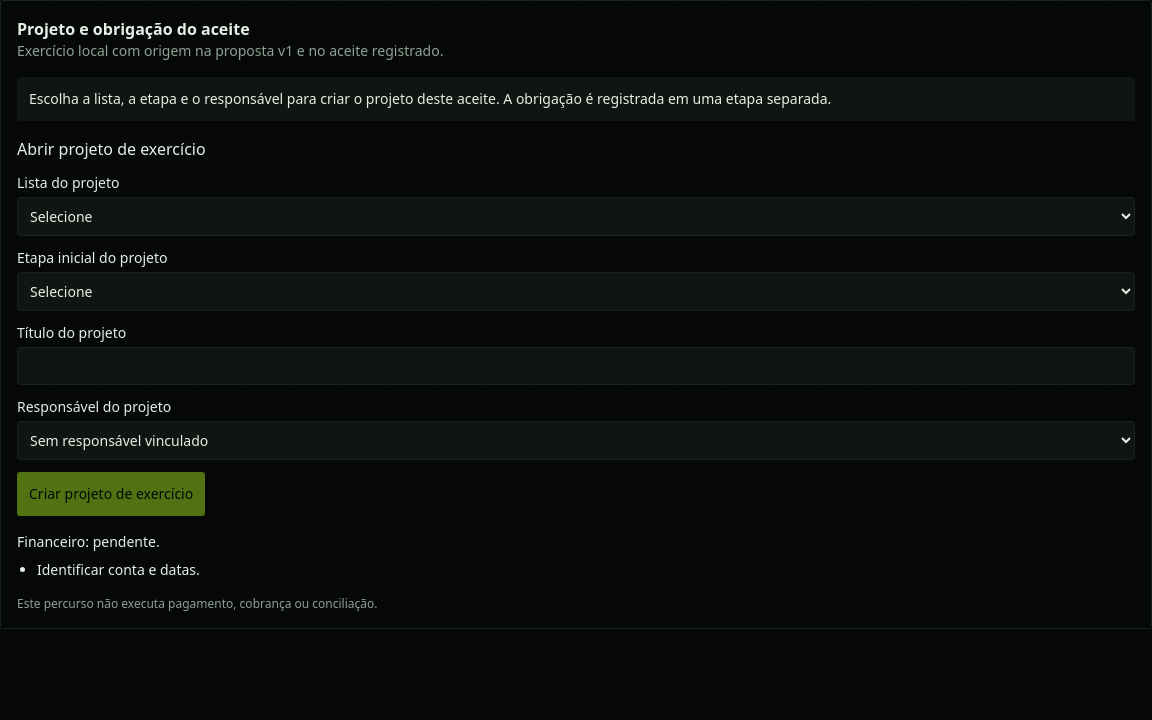
Test case: ponte comercial com API simulada › quota de storage impede POST antes de qualquer efeito
Select "Lista QA" in the dropdown labelled "Lista do projeto". click: (576,216)
box: [17,197,1135,236]
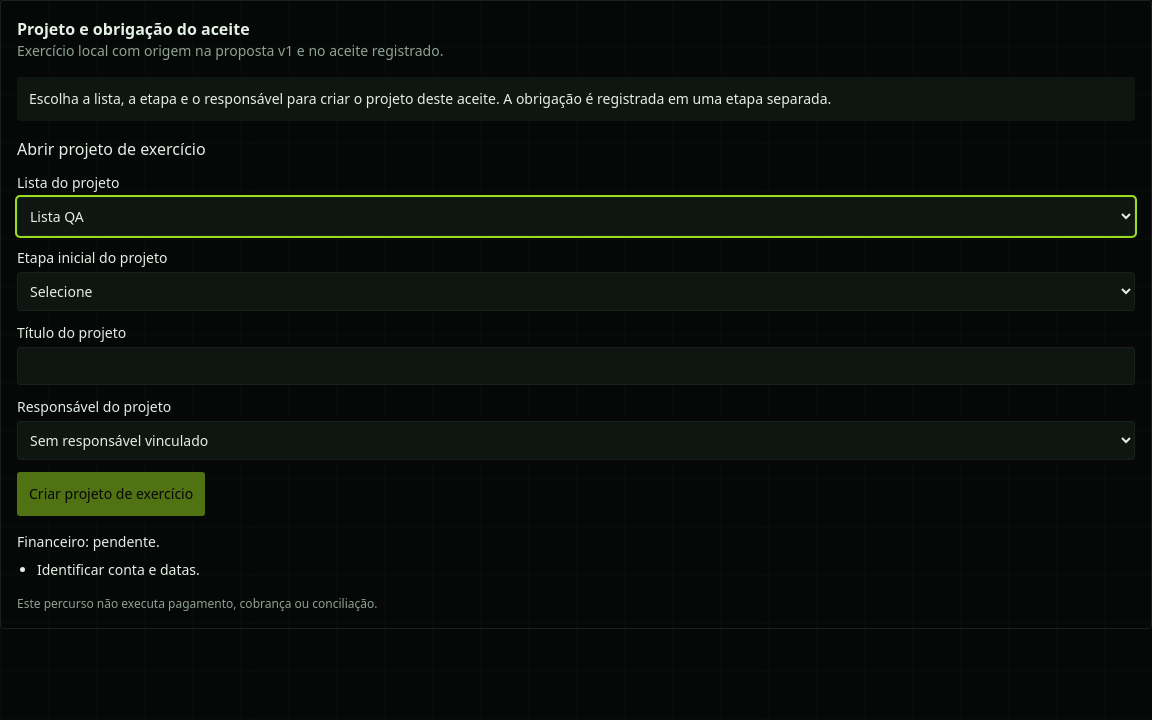
Select "Etapa QA" in the dropdown labelled "Etapa inicial do projeto". click: (576,292)
box: [17,272,1135,311]
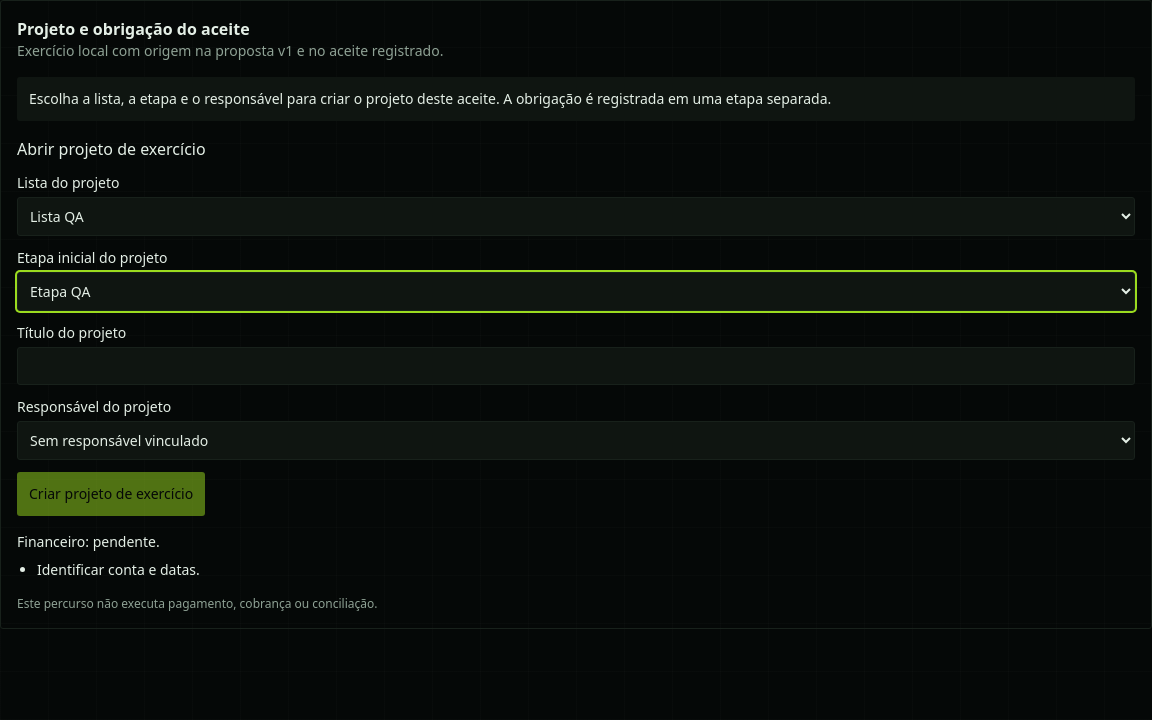
Type "Projeto QA privado" into the field labelled "Título do projeto". click: (576,366)
box: [17,347,1135,385]
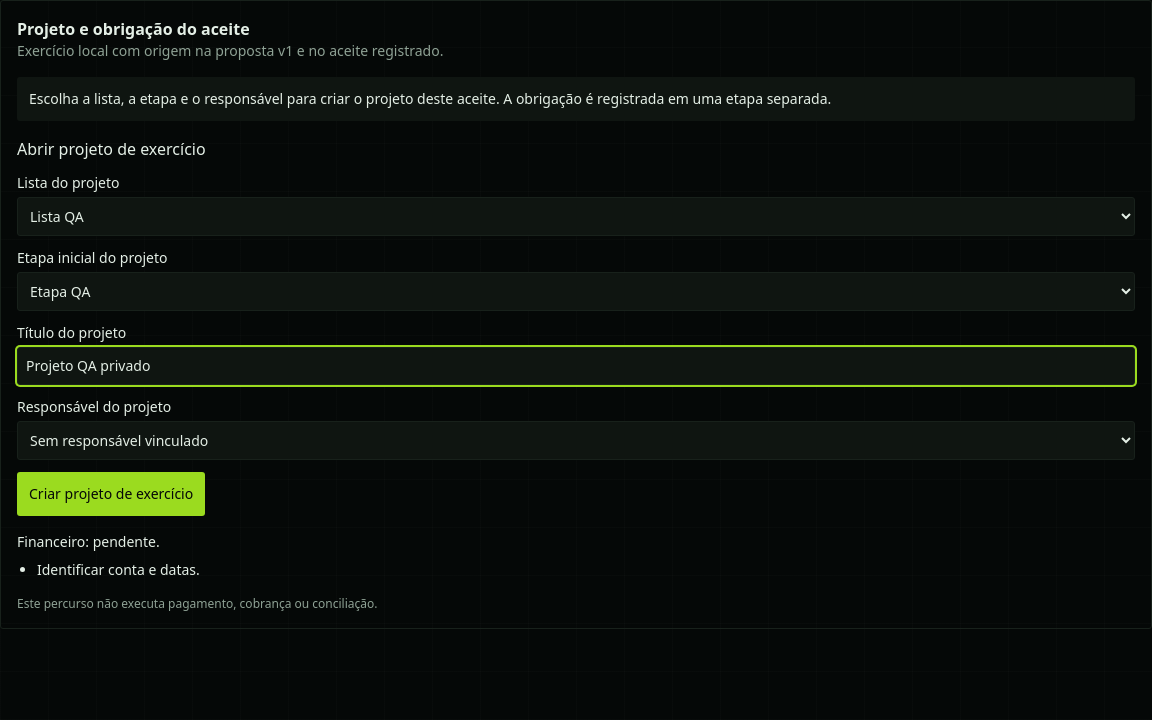
Click the button "Criar projeto de exercício". click: (111,494)
box: [17,472,205,516]
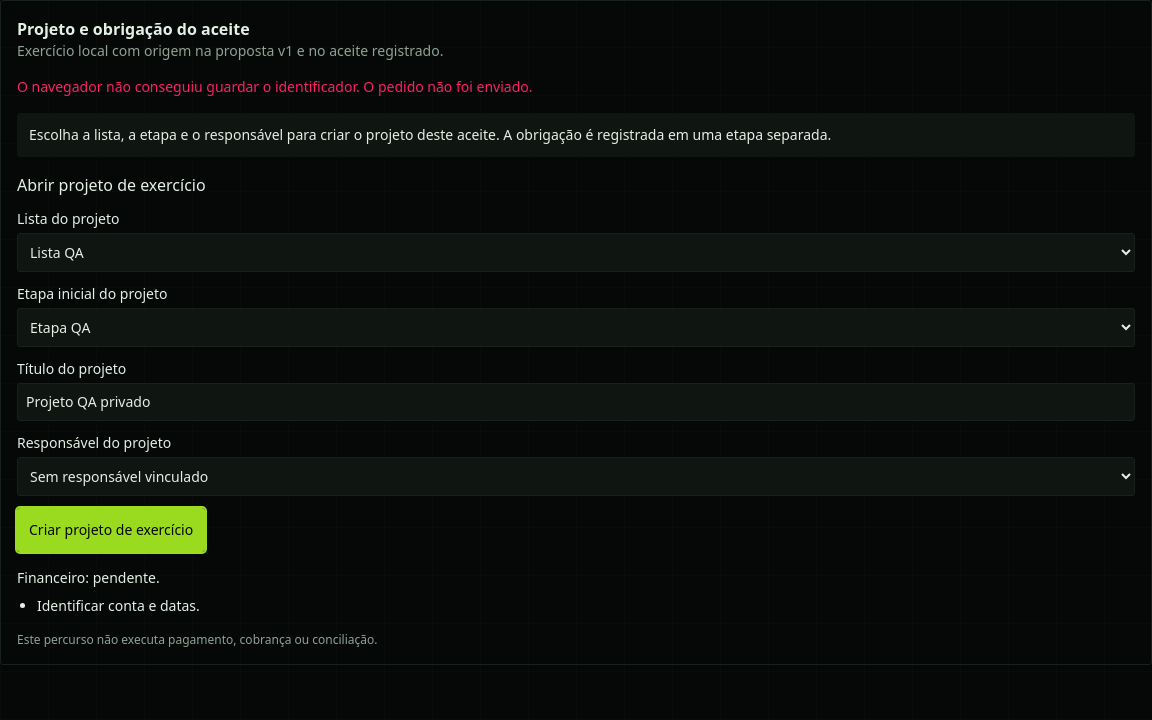
Expected: the text "O navegador não conseguiu guardar o identificador. O pedido não foi enviado." is shown, [17,77,532,96]
